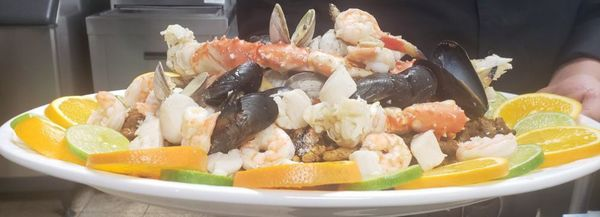taco: (515, 124, 600, 168), (496, 92, 583, 128)
